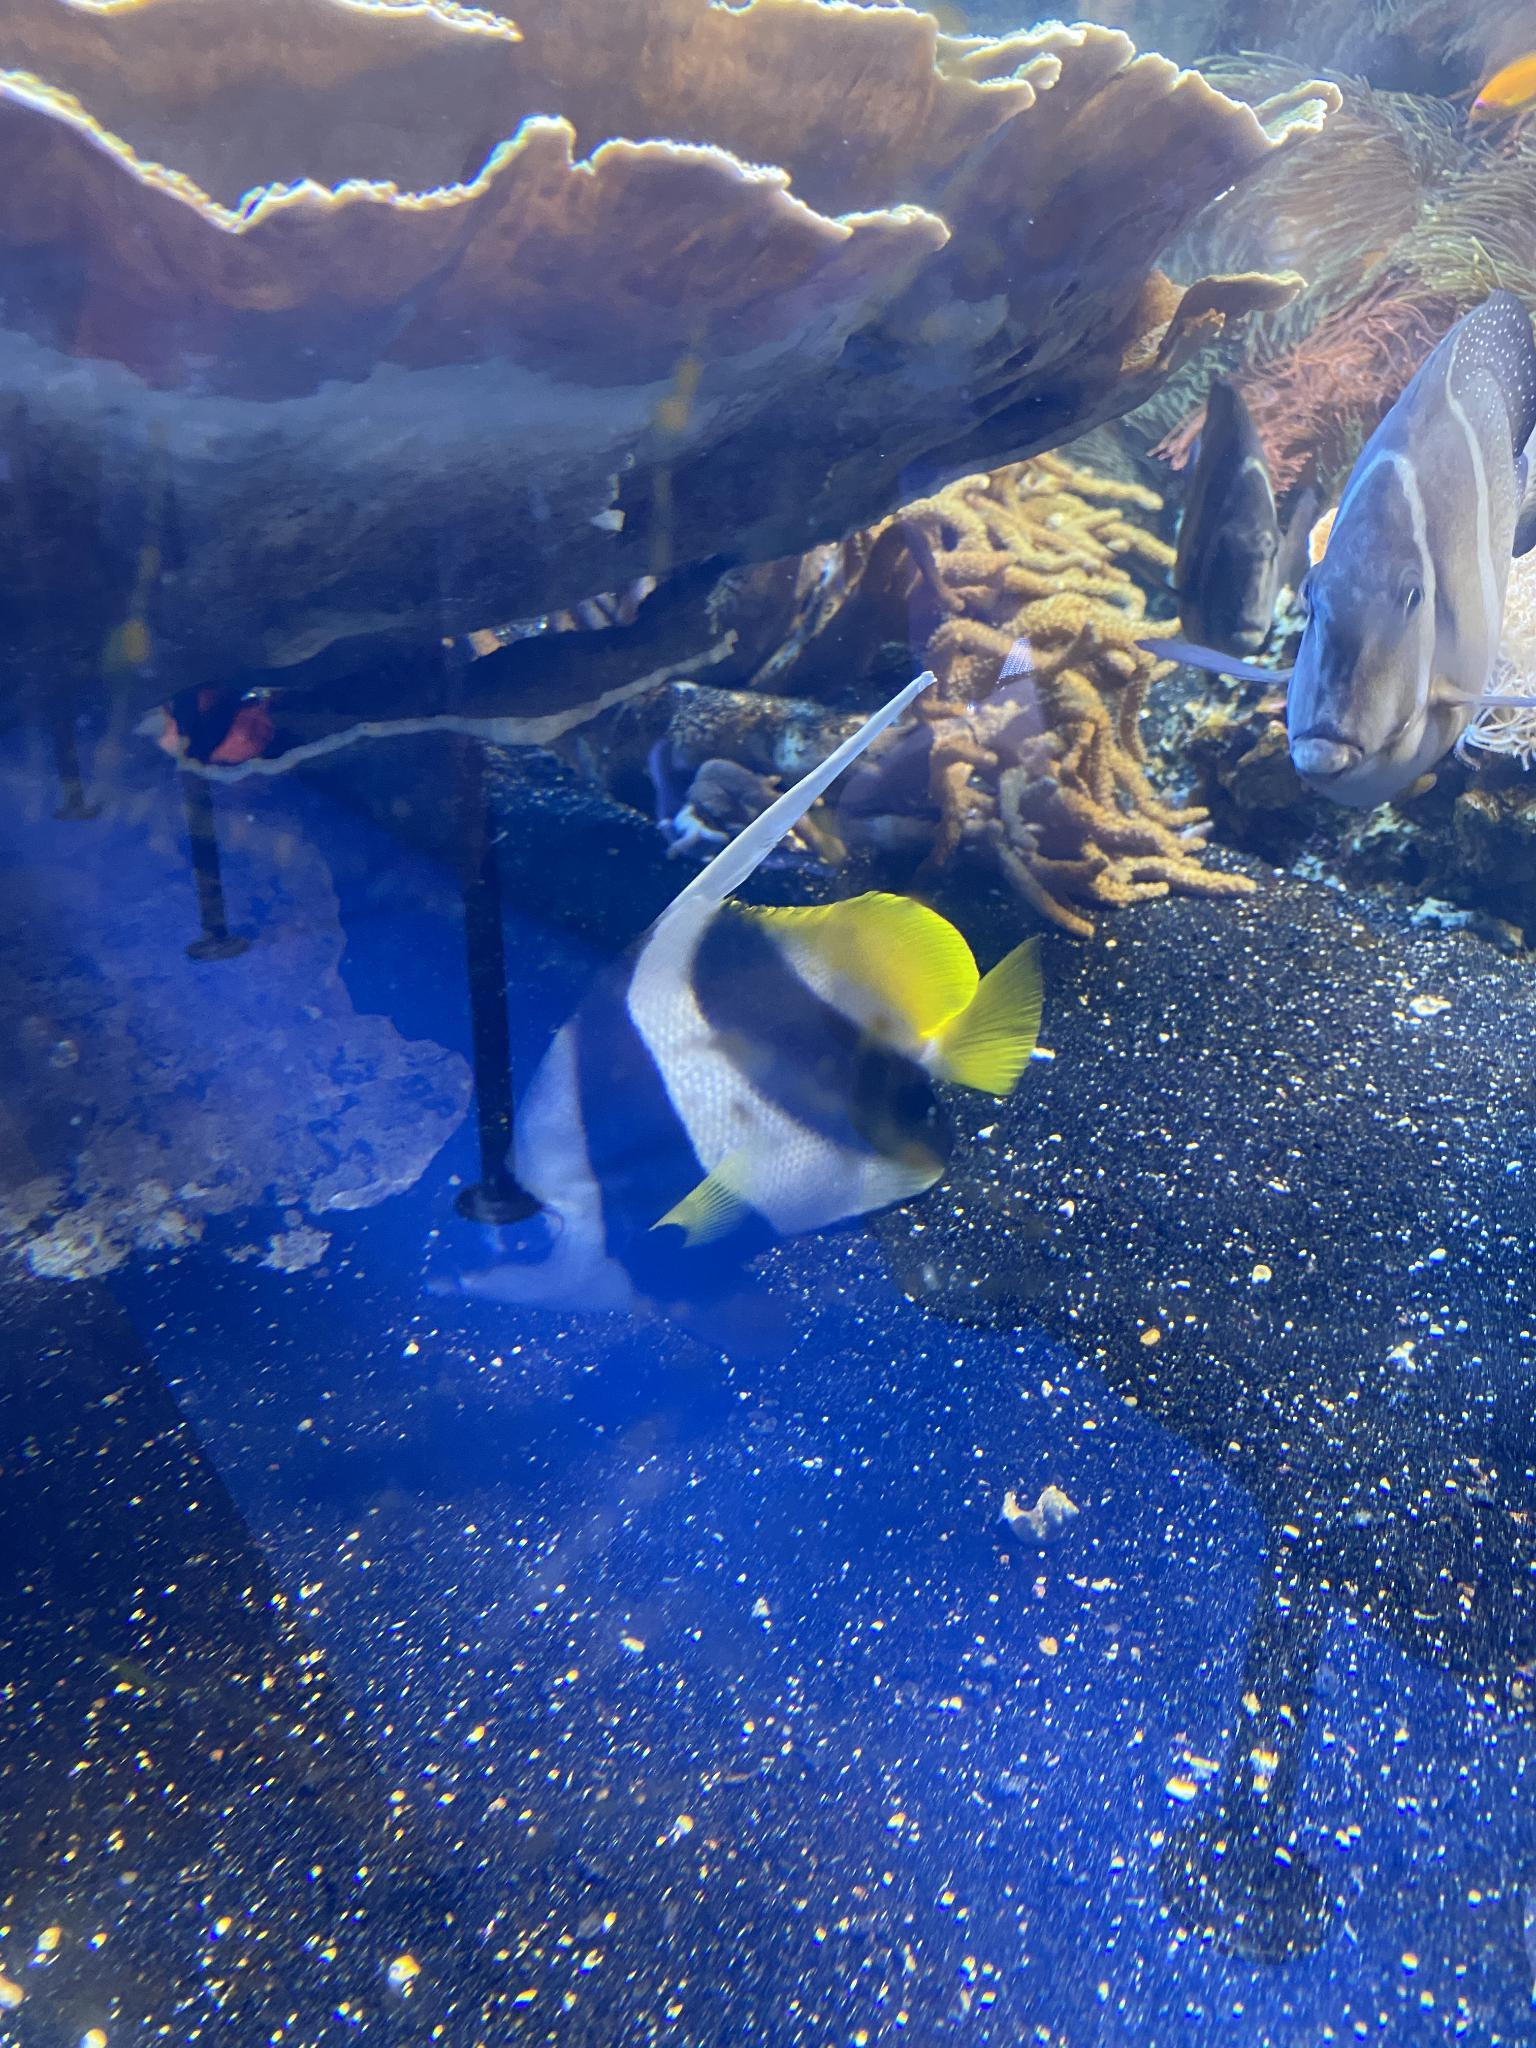fish: (428, 897, 1049, 1322), (1284, 287, 1534, 803)
